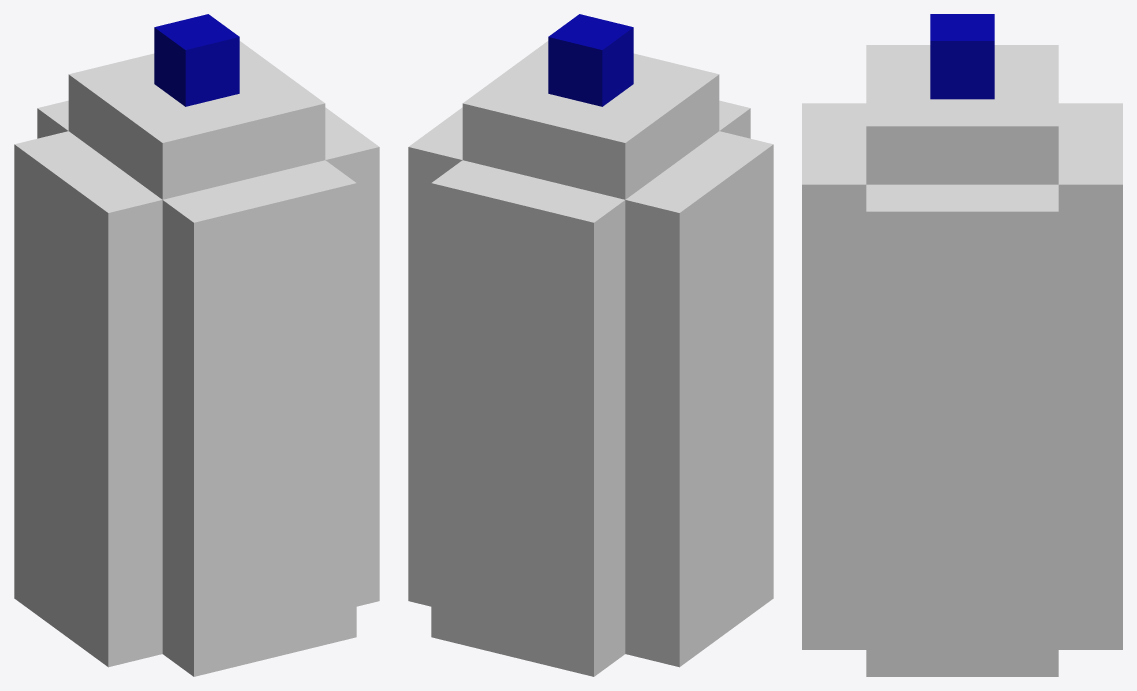
File: Reagent Bottle_79.obj
The picture shows the model from 3 angles, left to right: view 1: azimuth 30°, elevation 25°; view 2: azimuth 150°, elevation 25°; view 3: azimuth 270°, elevation 25°; orthographic projection. The views are drawn at different scales.
Parts seen in each view (by area): view 1: Reagent_Bottle_79; view 2: Reagent_Bottle_79; view 3: Reagent_Bottle_79.
Boxes of the visible parts, <box> form: Reagent_Bottle_79: <box>14,14,379,676</box>; Reagent_Bottle_79: <box>408,14,773,676</box>; Reagent_Bottle_79: <box>802,14,1122,676</box>.
Size of the model in its own units: 0.5 by 1 by 0.5.
Materials: 1 (1 with a texture image).
